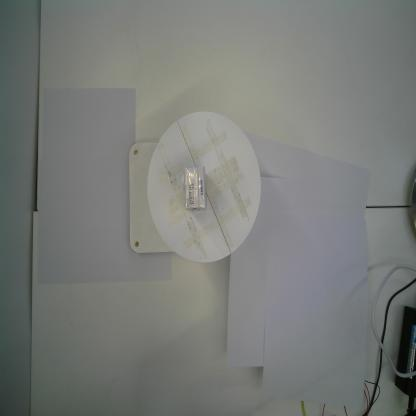Milk: (184, 166, 208, 211)
